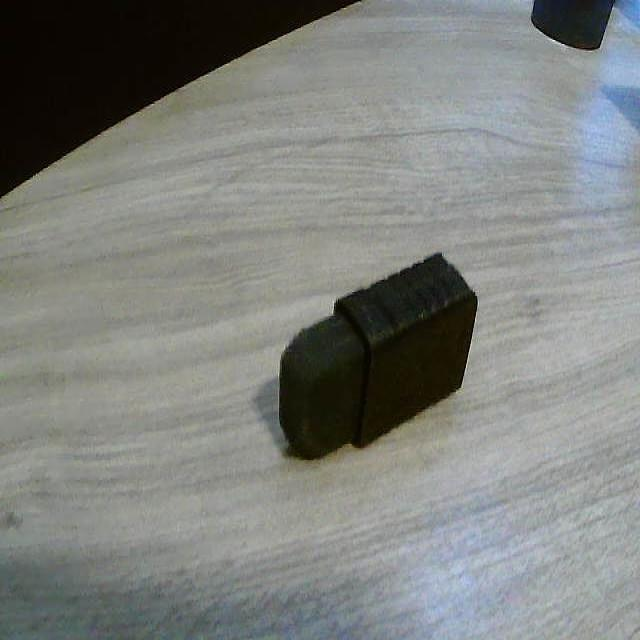borracha: (261, 249, 489, 467)
